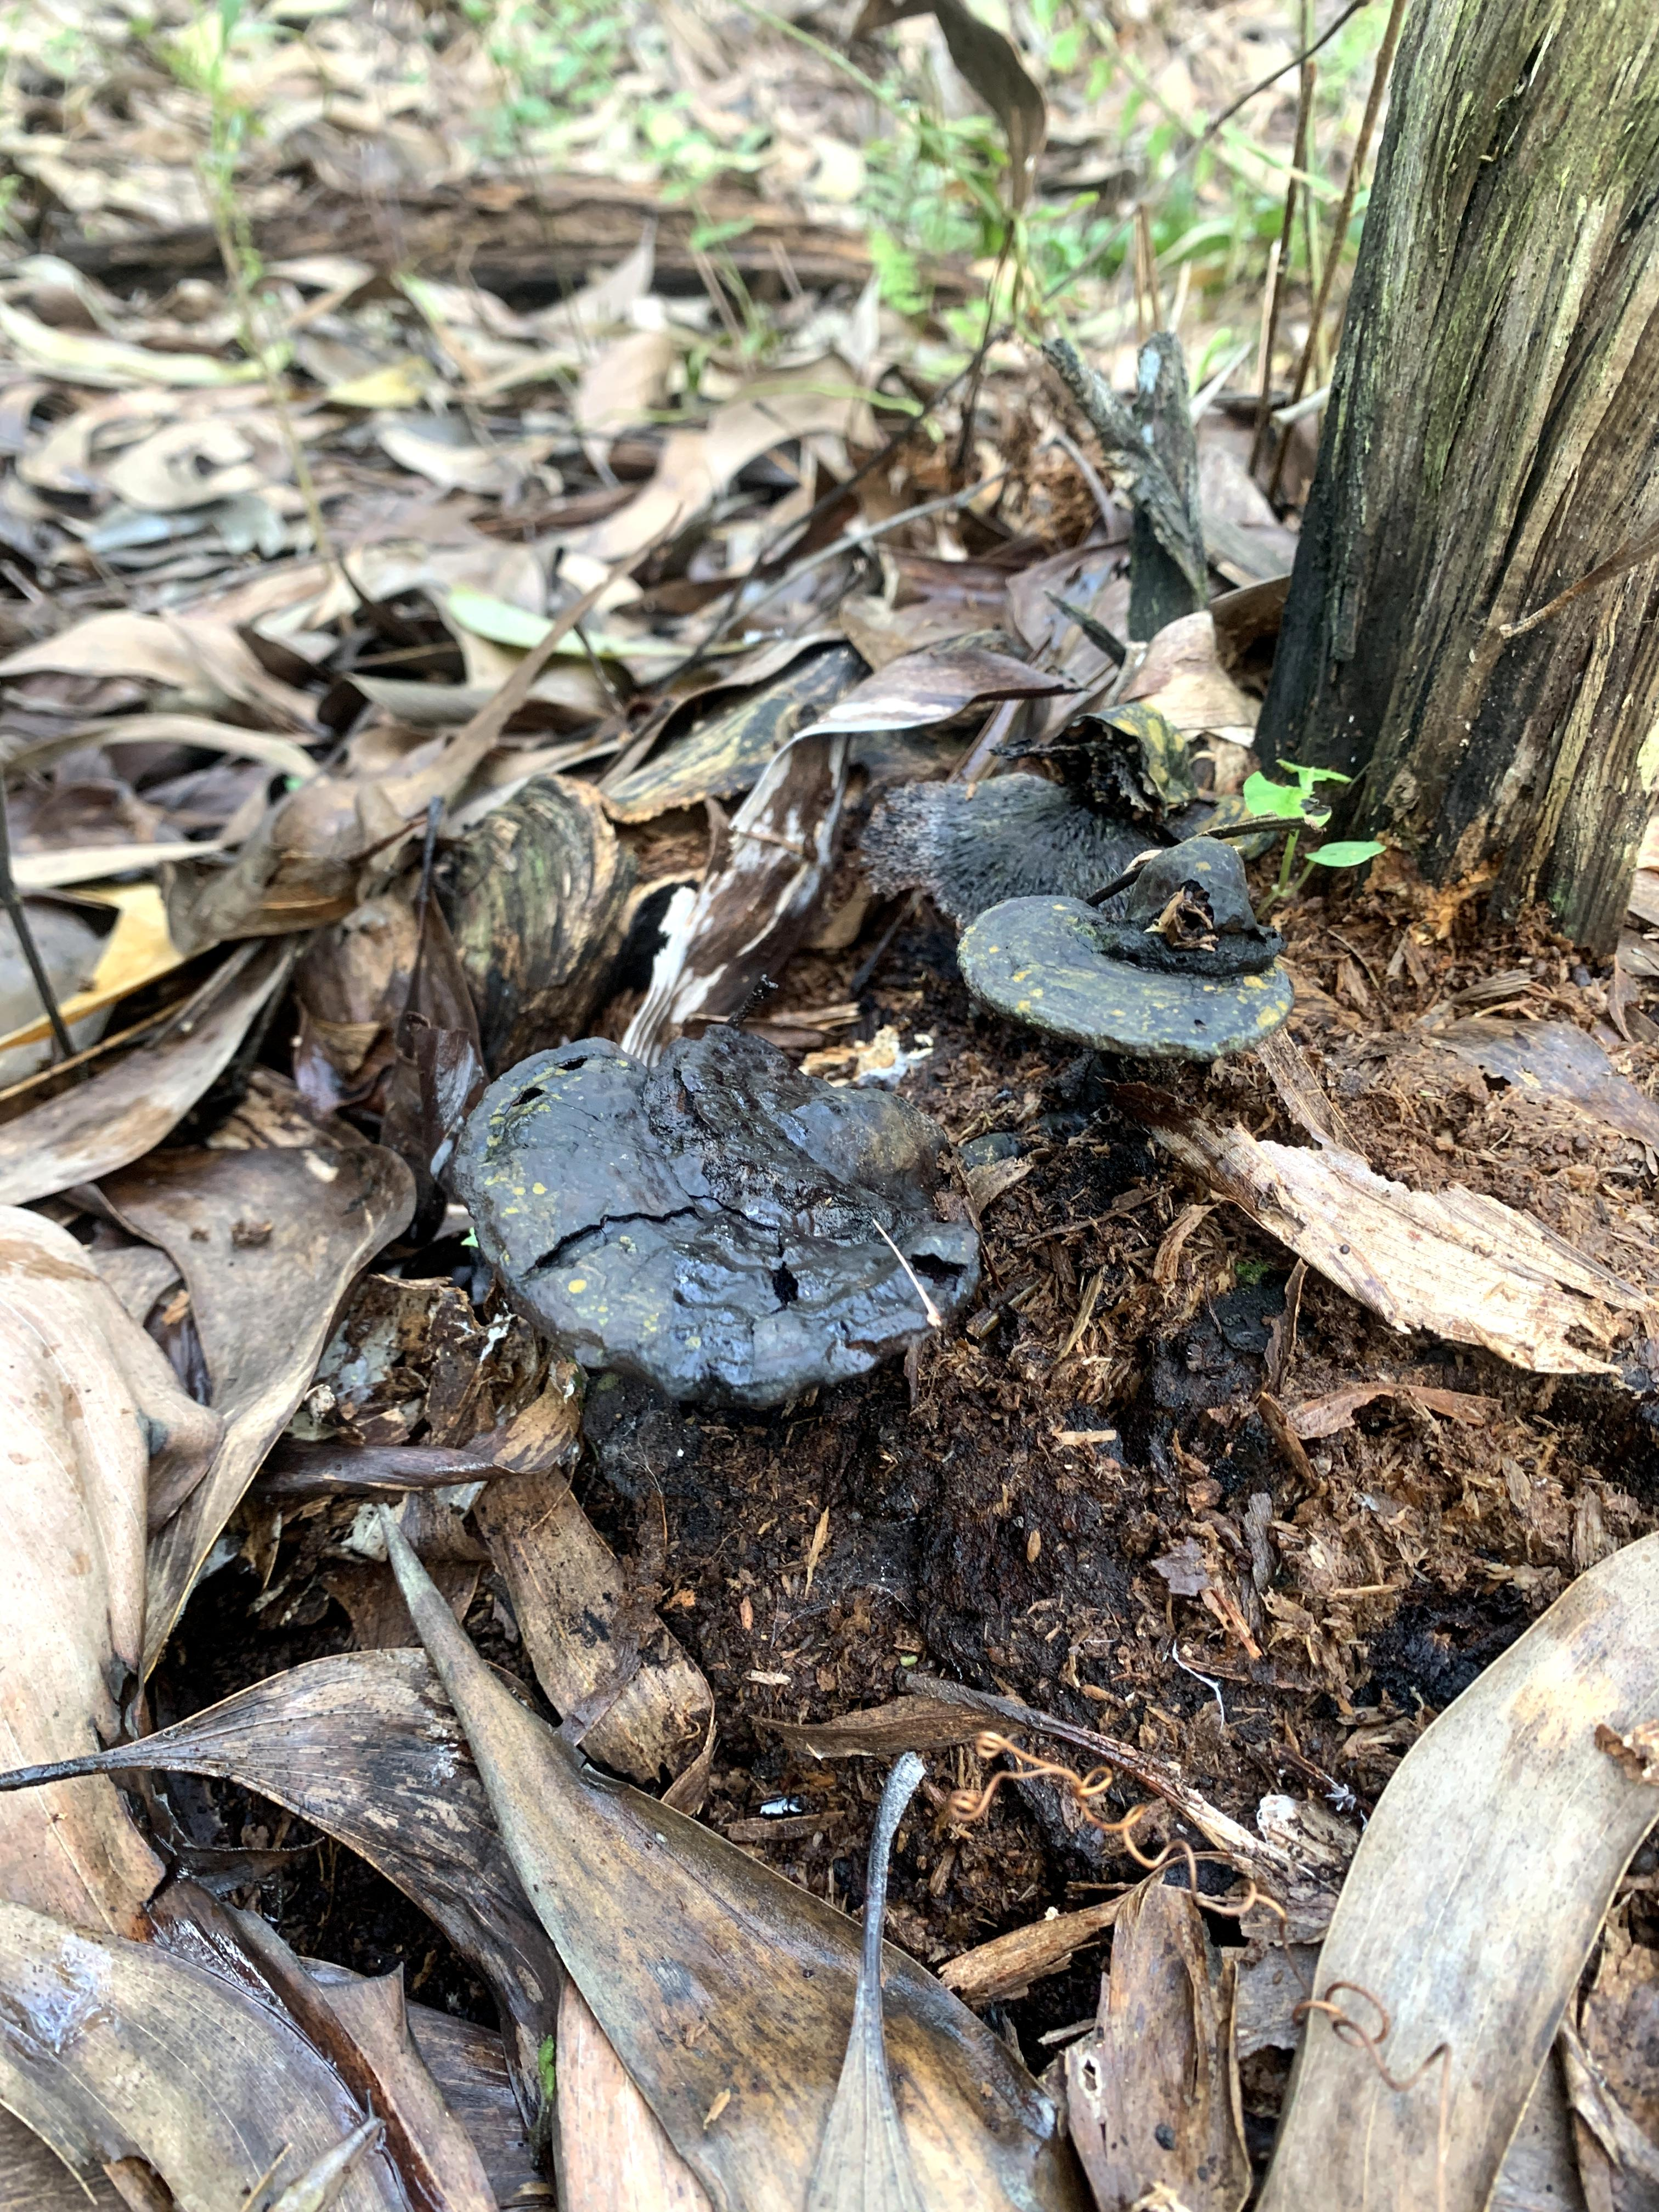Ganoderma - Fruit Body: (439, 1026, 967, 1413), (864, 698, 1286, 1082)
